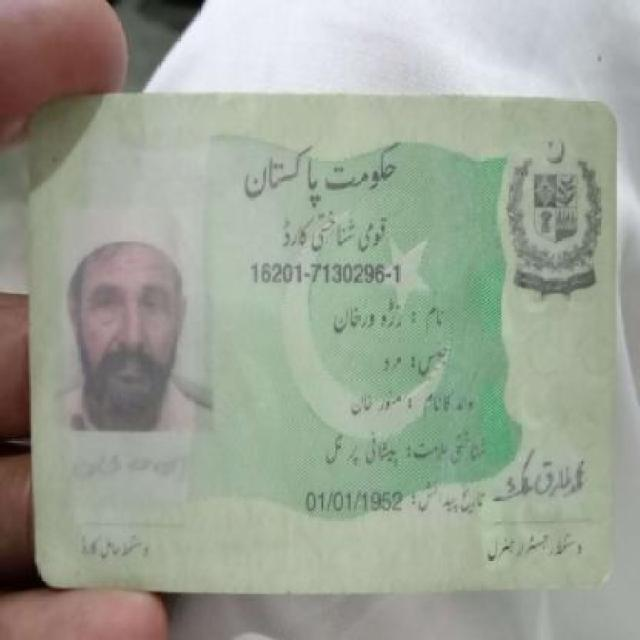Front: (20, 75, 620, 597)
